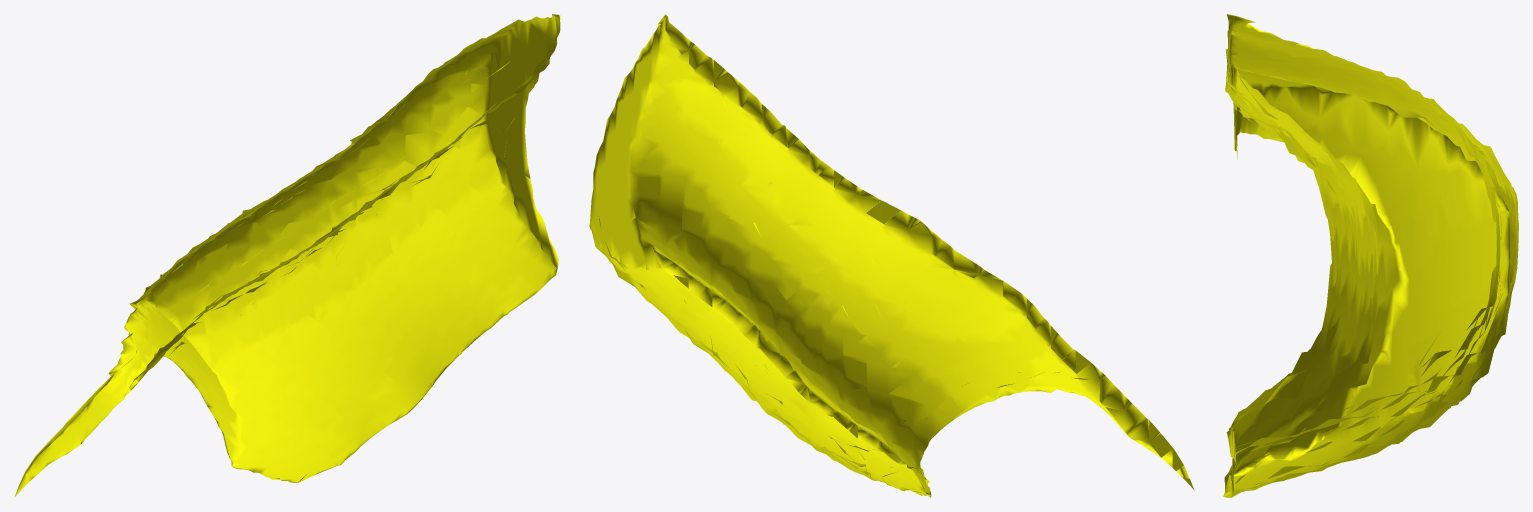
3 renders of one model, left to right at view 1: azimuth 30°, elevation 25°; view 2: azimuth 150°, elevation 25°; view 3: azimuth 270°, elevation 25°, orthographic. The views are drawn at different scales.
Visible parts, largest first — view 1: Switch_Switch_osgPicked_gmeGeoEntityGeode_Geometry_0; view 2: Switch_Switch_osgPicked_gmeGeoEntityGeode_Geometry_0; view 3: Switch_Switch_osgPicked_gmeGeoEntityGeode_Geometry_0.
Boxes of the visible parts, x1,y1,x2,y2 form: Switch_Switch_osgPicked_gmeGeoEntityGeode_Geometry_0: (14, 14, 560, 497); Switch_Switch_osgPicked_gmeGeoEntityGeode_Geometry_0: (589, 14, 1189, 497); Switch_Switch_osgPicked_gmeGeoEntityGeode_Geometry_0: (1223, 14, 1518, 497).
Bounding box in the file's own units: 10965 × 7799 × 3075.
